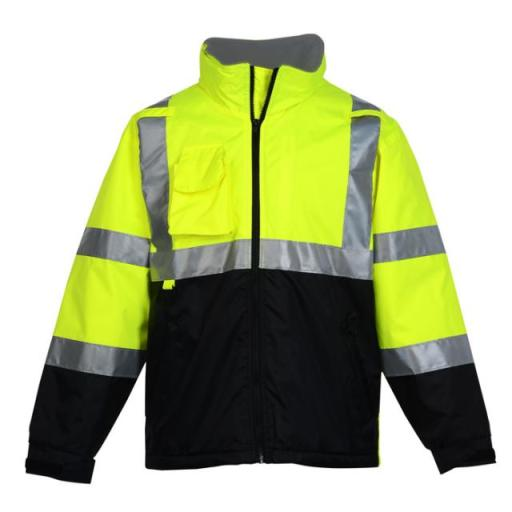vest: (40, 34, 491, 470)
